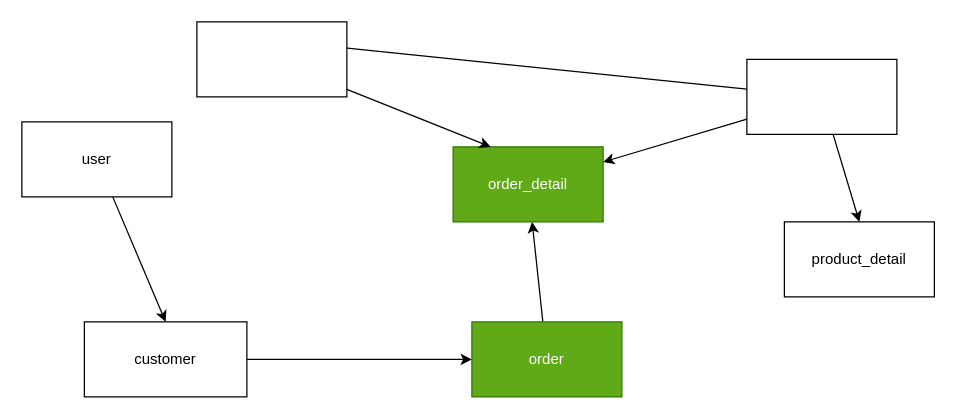
Some shapes in this 956 by 419 pixel diagram are drawn without their labels. Here are the shapes that lost their labels. From the top down, the box of each, then its label:
(196, 21, 347, 97): price
(746, 58, 897, 134): product
